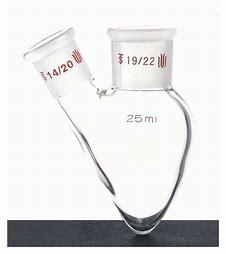Pear shaped flask: (13, 22, 193, 232)
